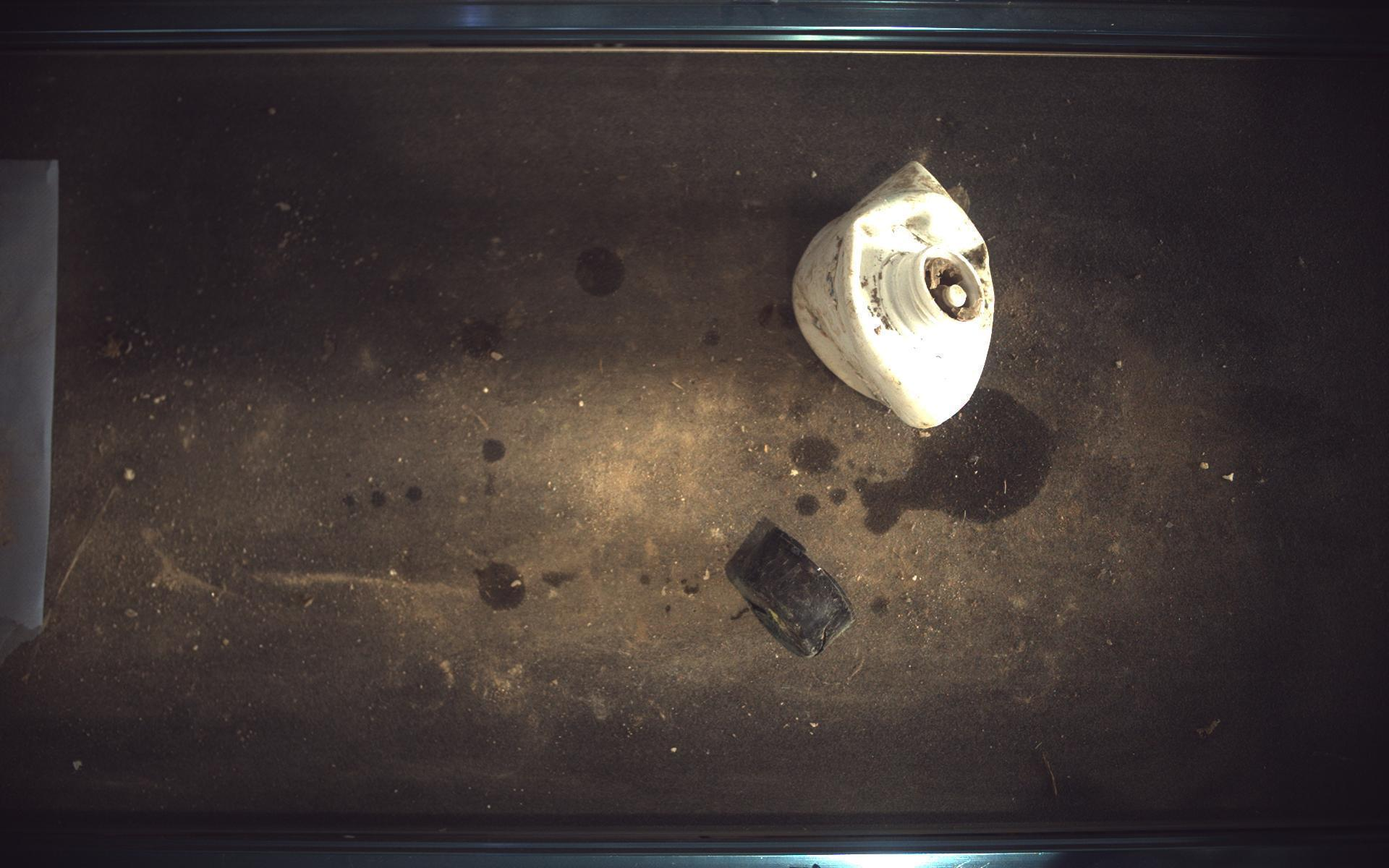general_w: (728, 519, 855, 658)
plastic: (794, 160, 997, 429)
